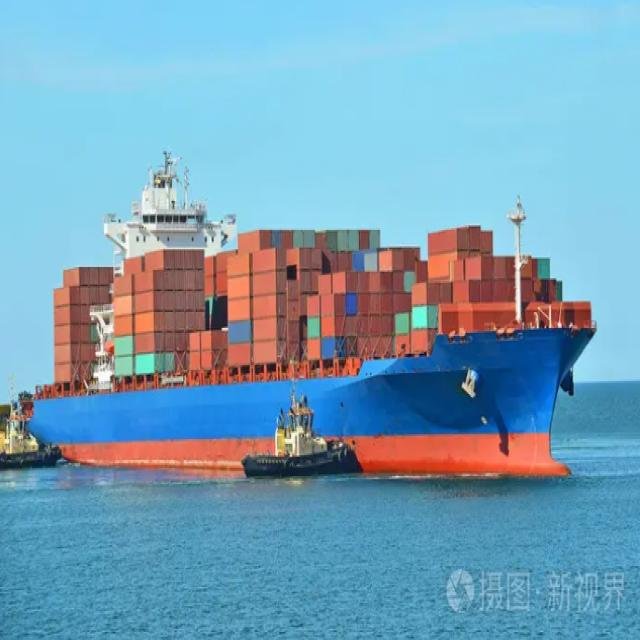cargoship: (24, 144, 593, 480)
houseboat: (242, 395, 350, 479), (0, 395, 59, 468)
